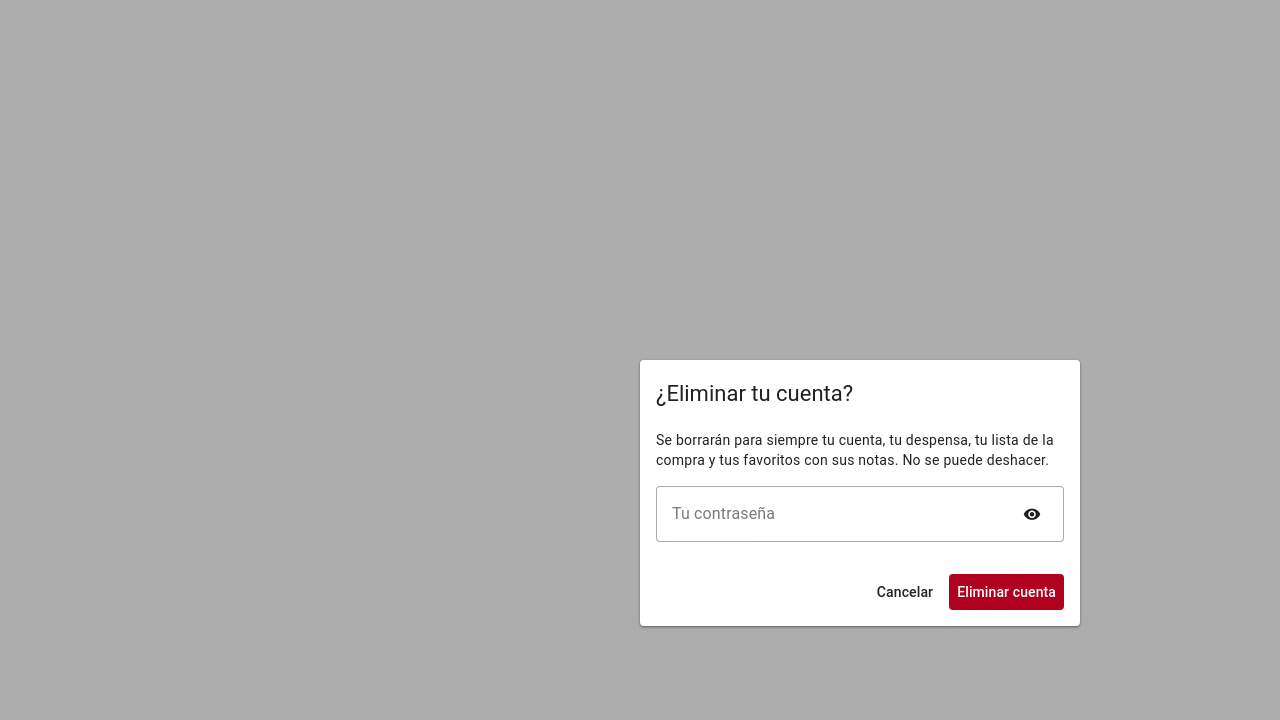
Scenario: DeleteAccountDialog › no borra nada sin contraseña
What coordinates should you click on to do the following:
click the button "Eliminar cuenta"
I would click on:
 (1007, 592)
Its box is 949,574 -> 1064,610.
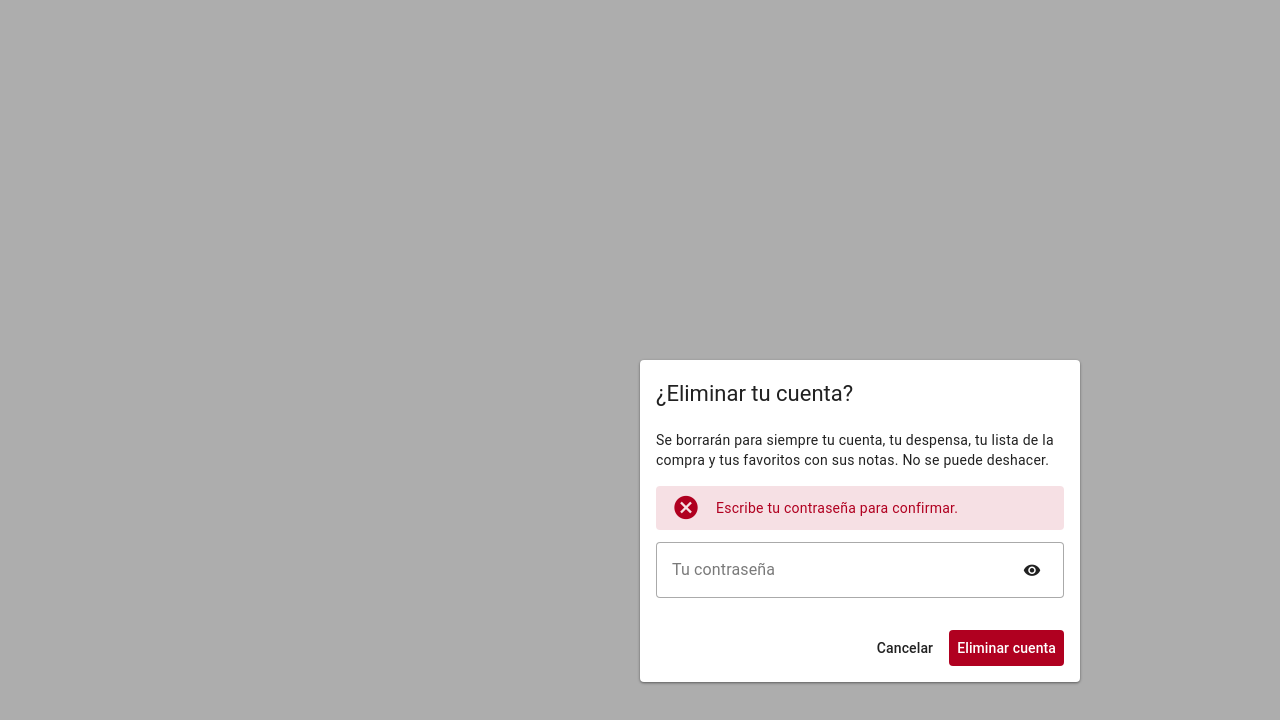
Check: the text "Escribe tu contraseña para confirmar" is shown, box 716,500 -> 958,516
